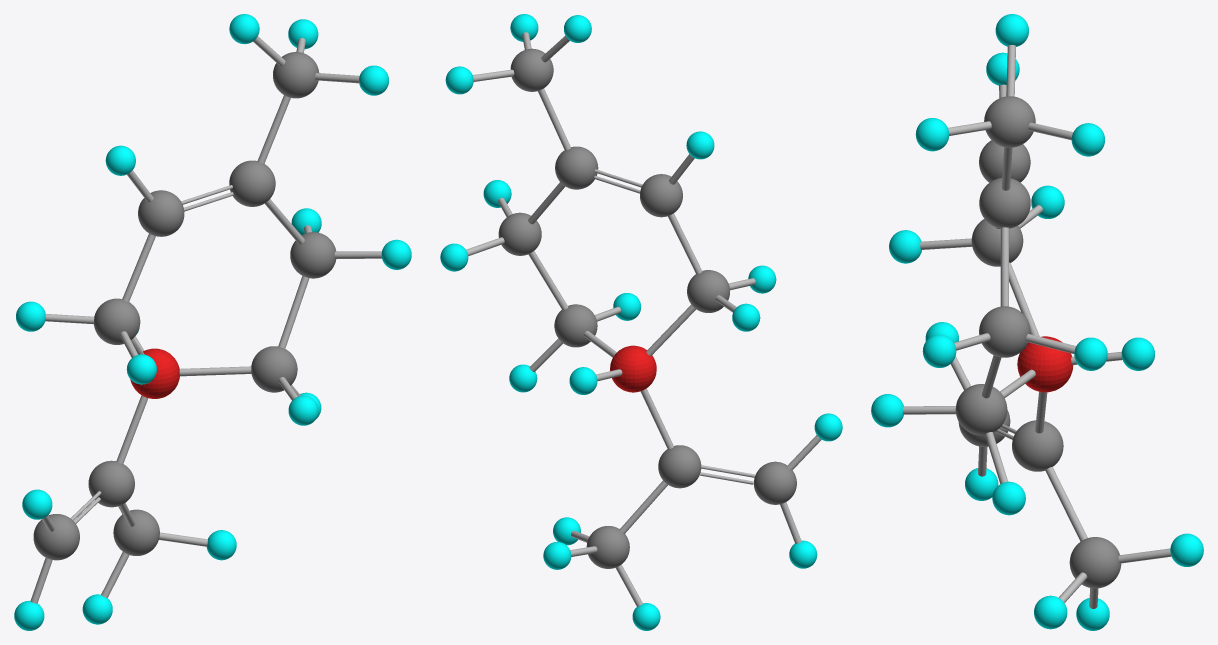
3 views of the same model, side by side, from view 1: azimuth 30°, elevation 25°; view 2: azimuth 150°, elevation 25°; view 3: azimuth 270°, elevation 25° (orthographic). The views are drawn at different scales.
Parts seen in each view (by area): view 1: CMBond_28_Segment_0.001, 球; view 2: CMBond_28_Segment_0.001, 球; view 3: CMBond_28_Segment_0.001, 球.
Part boxes in pixels (bbox=[...]): CMBond_28_Segment_0.001: bbox=[14, 14, 411, 630]; 球: bbox=[130, 348, 179, 398]; CMBond_28_Segment_0.001: bbox=[440, 14, 842, 630]; 球: bbox=[610, 345, 656, 392]; CMBond_28_Segment_0.001: bbox=[871, 14, 1203, 630]; 球: bbox=[1017, 336, 1073, 392].
Bounding box in the file's own units: 0.5877 × 0.8879 × 0.3974.
